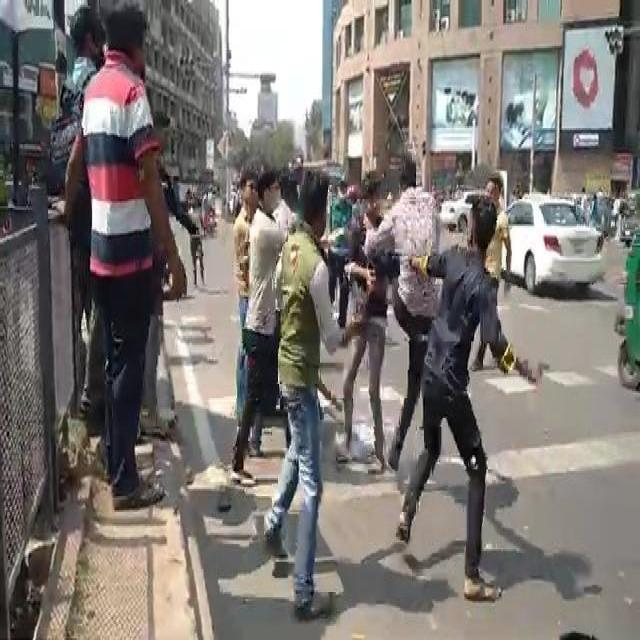fight: (218, 140, 520, 558), (64, 0, 178, 517)
